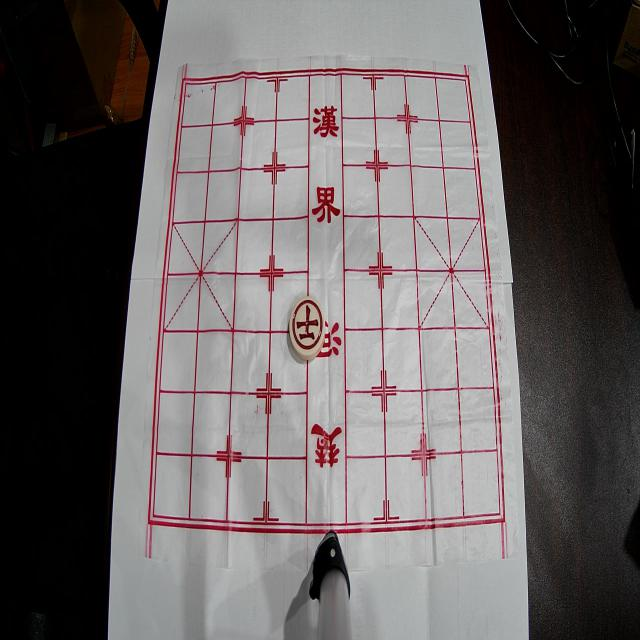red-guard: (289, 296, 325, 360)
